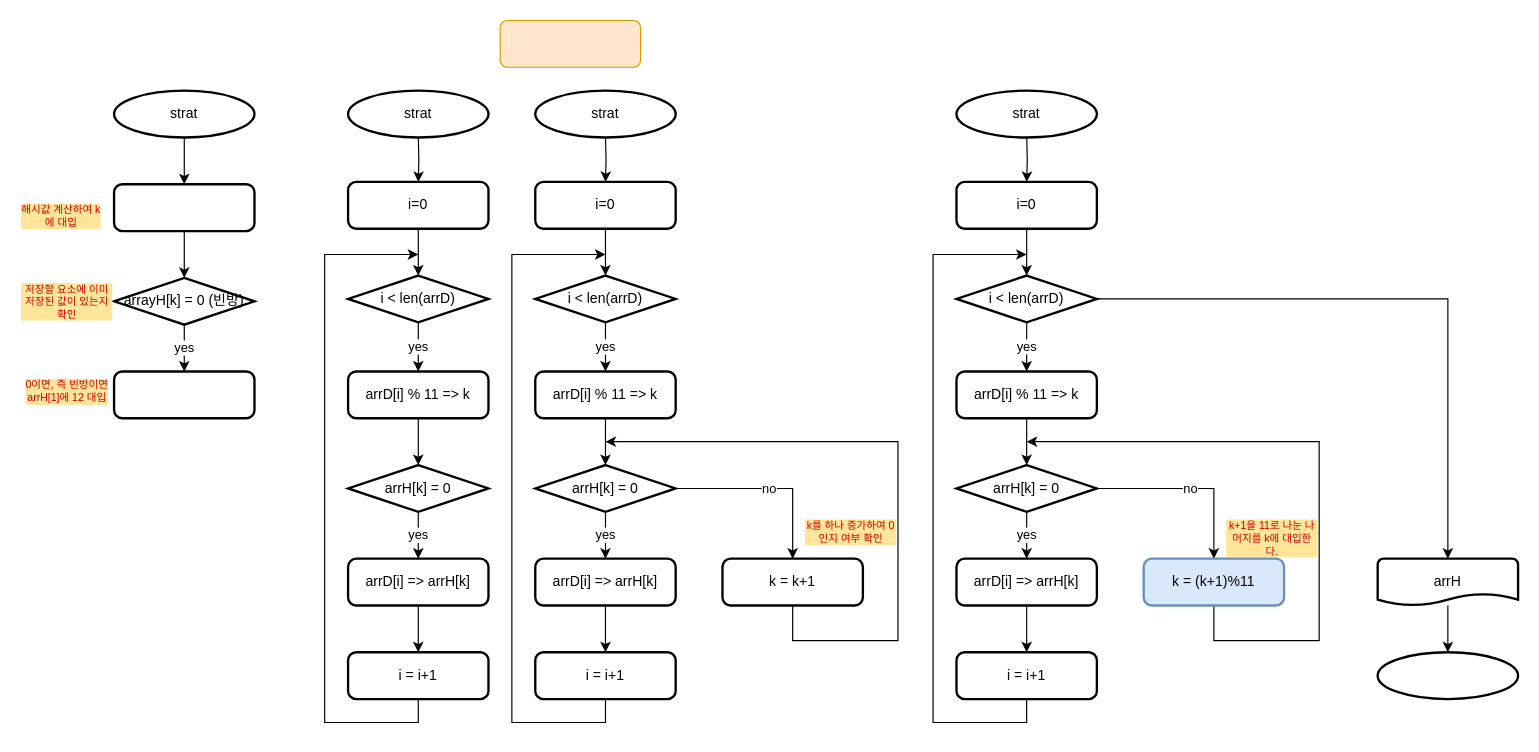
Some shapes in this 1539 by 752 pixel diagram are drawn without their labels. The shapes that lost their labels are listed below. From the top down, each one's centre as x and y in pixels, then its label:
At point 570,43: "Hash Search".
At point 183,207: "arrayD[0] % 11 => k".
At point 183,394: "arrayD[0] => arrH".
At point 1447,675: "end".
